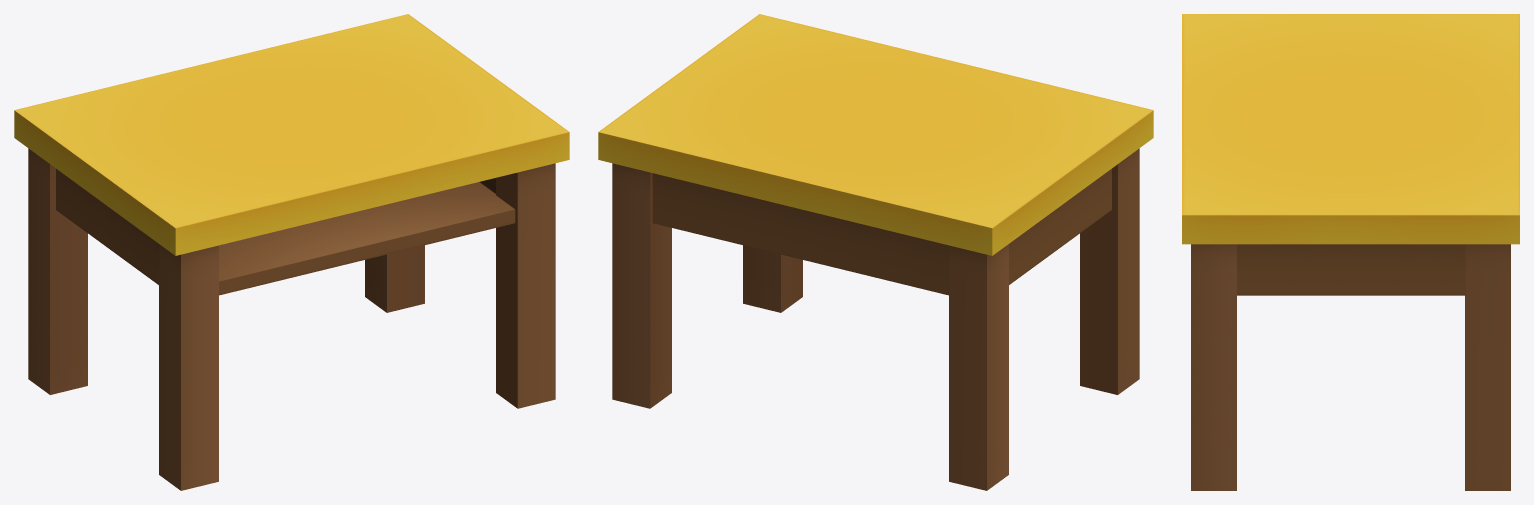
File: desk.FBX
The picture shows the model from 3 angles, left to right: view 1: azimuth 30°, elevation 25°; view 2: azimuth 150°, elevation 25°; view 3: azimuth 270°, elevation 25°; orthographic projection. The views are drawn at different scales.
Parts seen in each view (by area): view 1: desk; view 2: desk; view 3: desk.
Part boxes in pixels (left/top/right/bottom): desk: left=14, top=14, right=569, bottom=490; desk: left=598, top=14, right=1153, bottom=490; desk: left=1182, top=14, right=1519, bottom=490.
Bounding box in the file's own units: 44.89 × 29.18 × 31.83.
